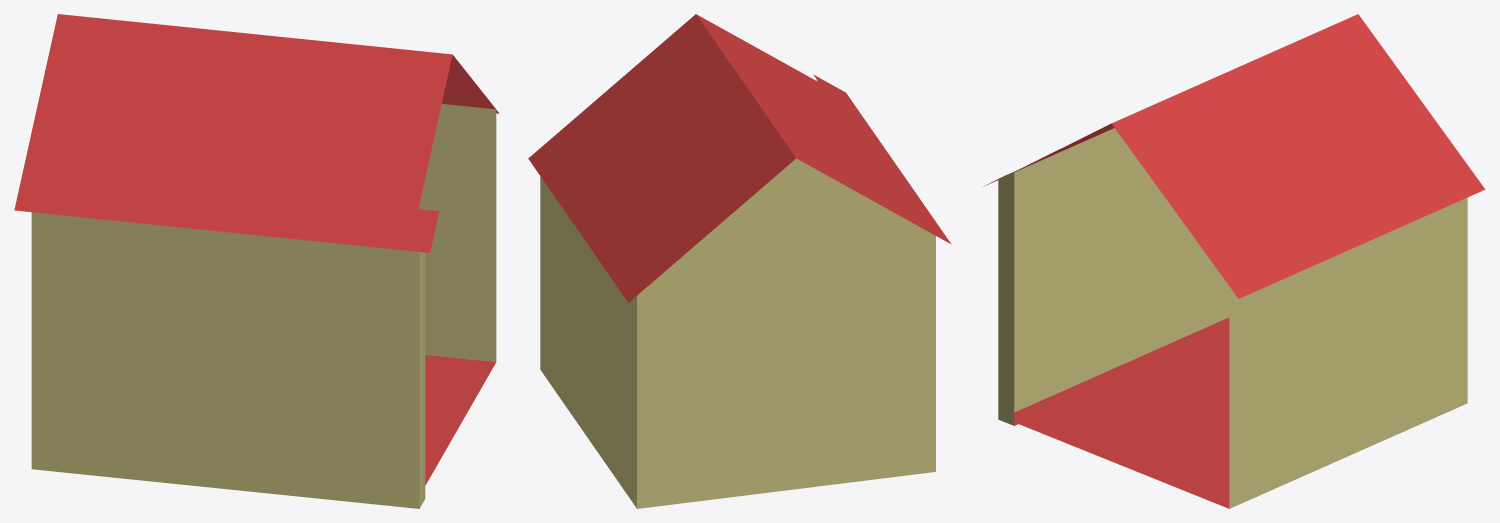
3 views of the same model, side by side, from view 1: azimuth 30°, elevation 25°; view 2: azimuth 150°, elevation 25°; view 3: azimuth 270°, elevation 25° (orthographic). The views are drawn at different scales.
Size of the model in its own units: 19.36 by 19.85 by 14.66.
